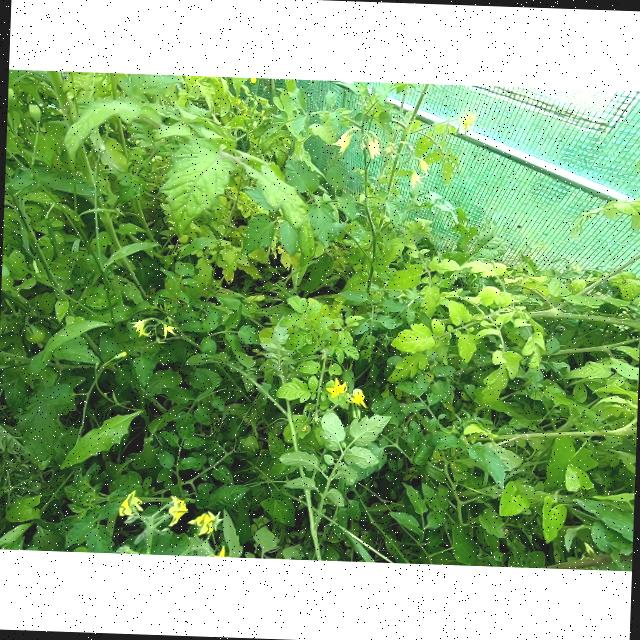Flowers: (186, 508, 224, 534), (117, 488, 144, 516), (163, 494, 185, 528), (346, 386, 371, 408), (325, 376, 346, 401), (456, 112, 476, 138), (332, 130, 352, 154), (130, 314, 150, 336), (157, 320, 180, 339), (406, 170, 426, 190), (412, 156, 432, 176), (366, 134, 379, 160), (384, 142, 396, 155)
